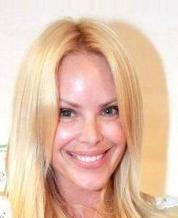face: (59, 100, 120, 169)
